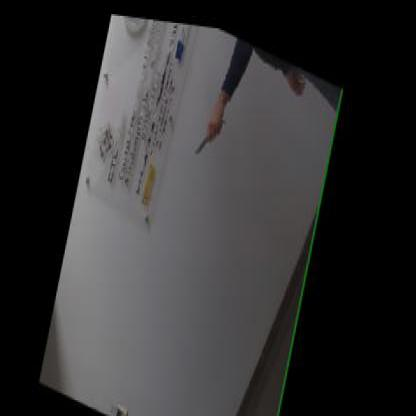knife: (193, 99, 228, 158)
